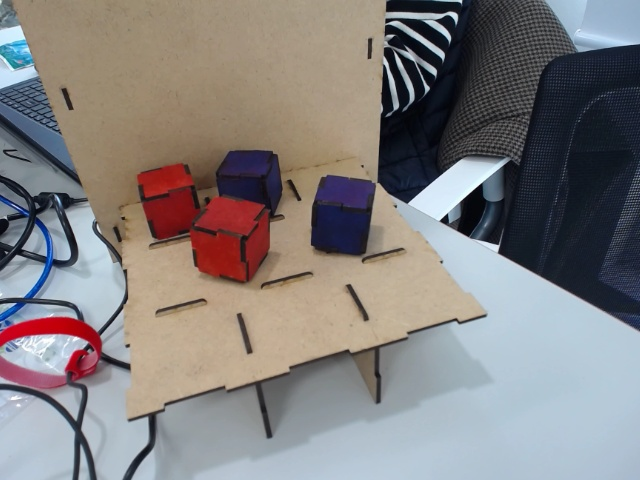blue: (311, 175, 375, 253), (215, 150, 284, 216)
red: (191, 195, 269, 284), (134, 164, 201, 239)
